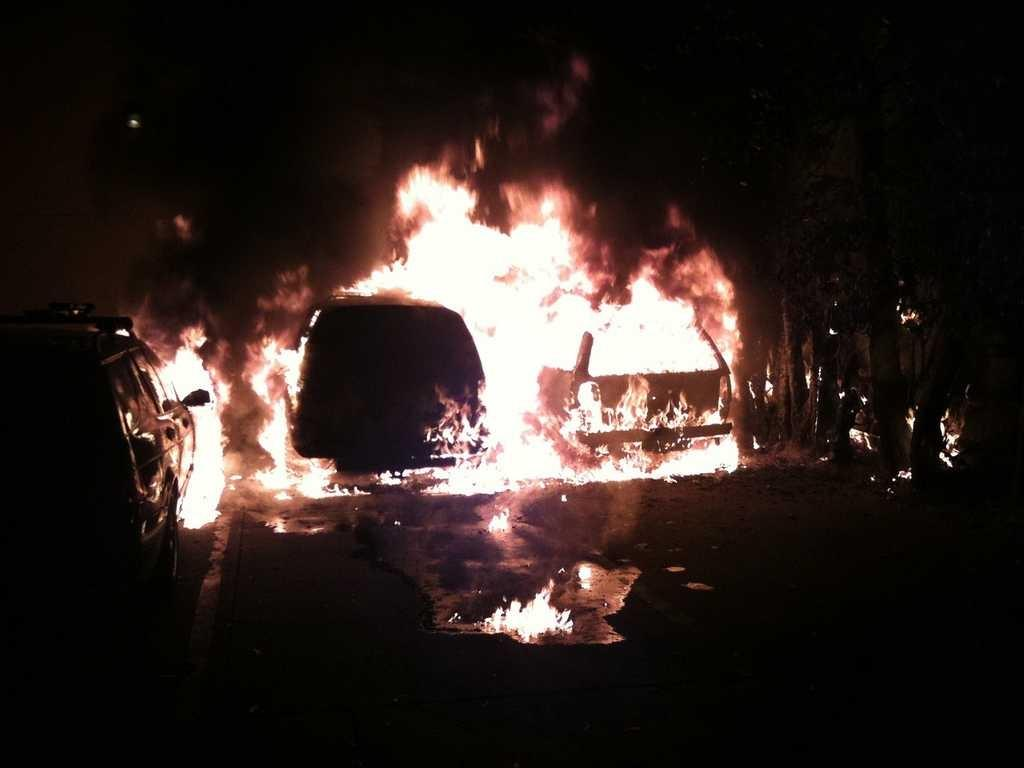fire: (389, 188, 757, 477)
